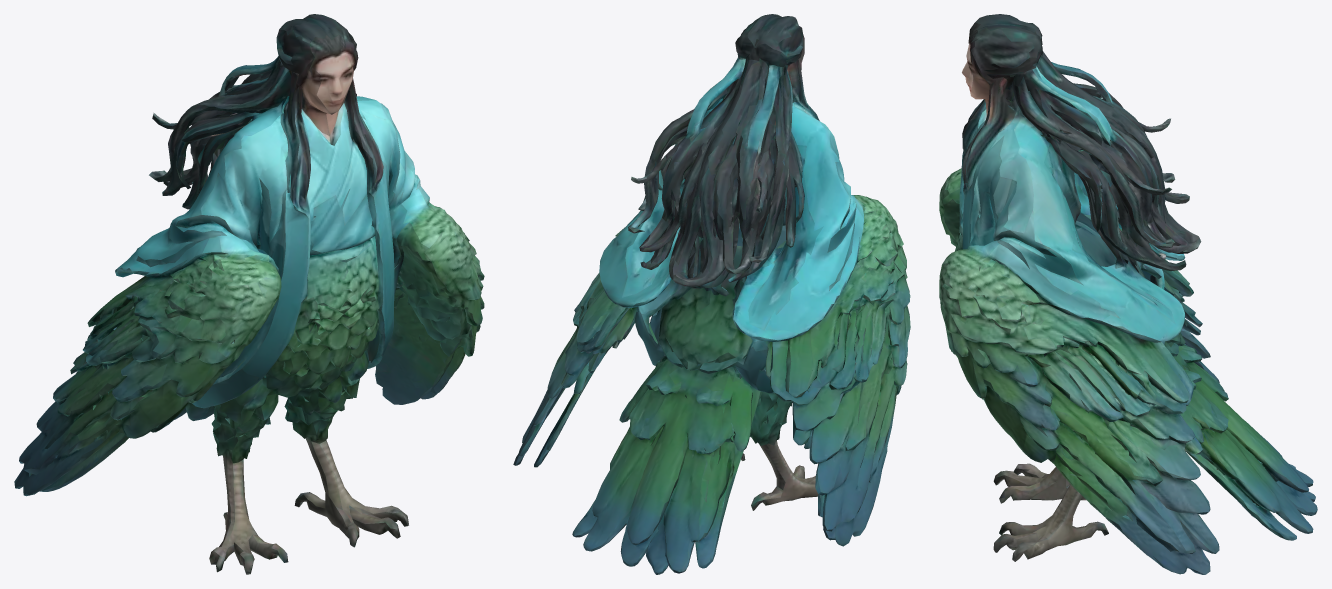
Rendered from goumang.glb.
3 renders of one model, left to right at view 1: azimuth 30°, elevation 25°; view 2: azimuth 150°, elevation 25°; view 3: azimuth 270°, elevation 25°, orthographic. The views are drawn at different scales.
Parts seen in each view (by area): view 1: geometry_0; view 2: geometry_0; view 3: geometry_0.
Part boxes in pixels (x1=…): geometry_0: x1=14, y1=14, x2=484, y2=574; geometry_0: x1=513, y1=14, x2=910, y2=574; geometry_0: x1=939, y1=14, x2=1317, y2=574.
Size of the model in its own units: 1.74 by 2.2 by 1.52.
1 material, 1 textured.
